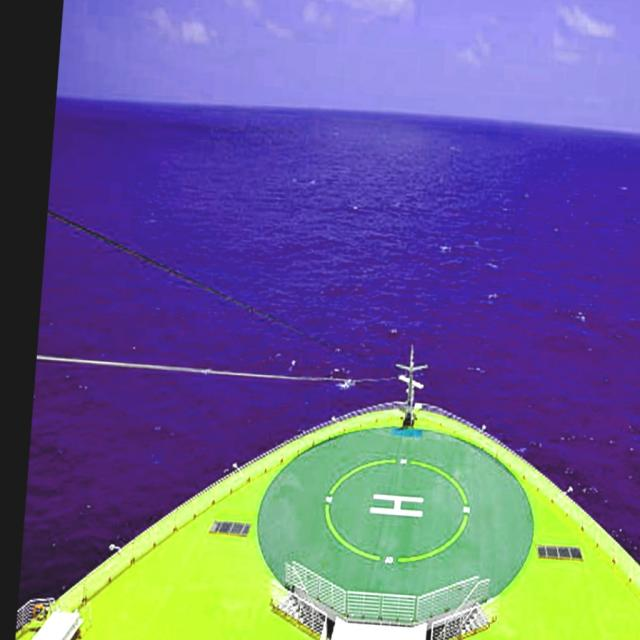helipad: (317, 449, 473, 572)
